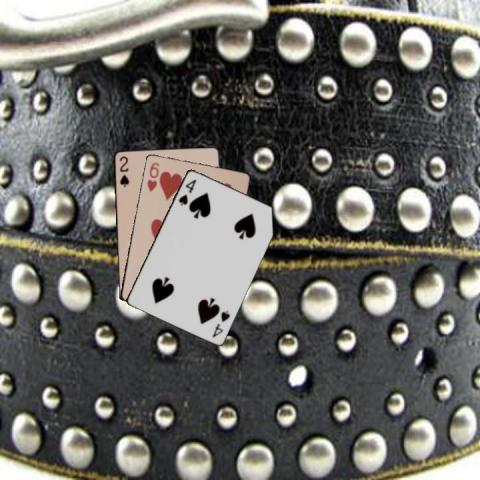2s: (117, 153, 130, 188)
4s: (176, 176, 198, 207), (210, 306, 231, 338)
6h: (144, 159, 161, 193)
